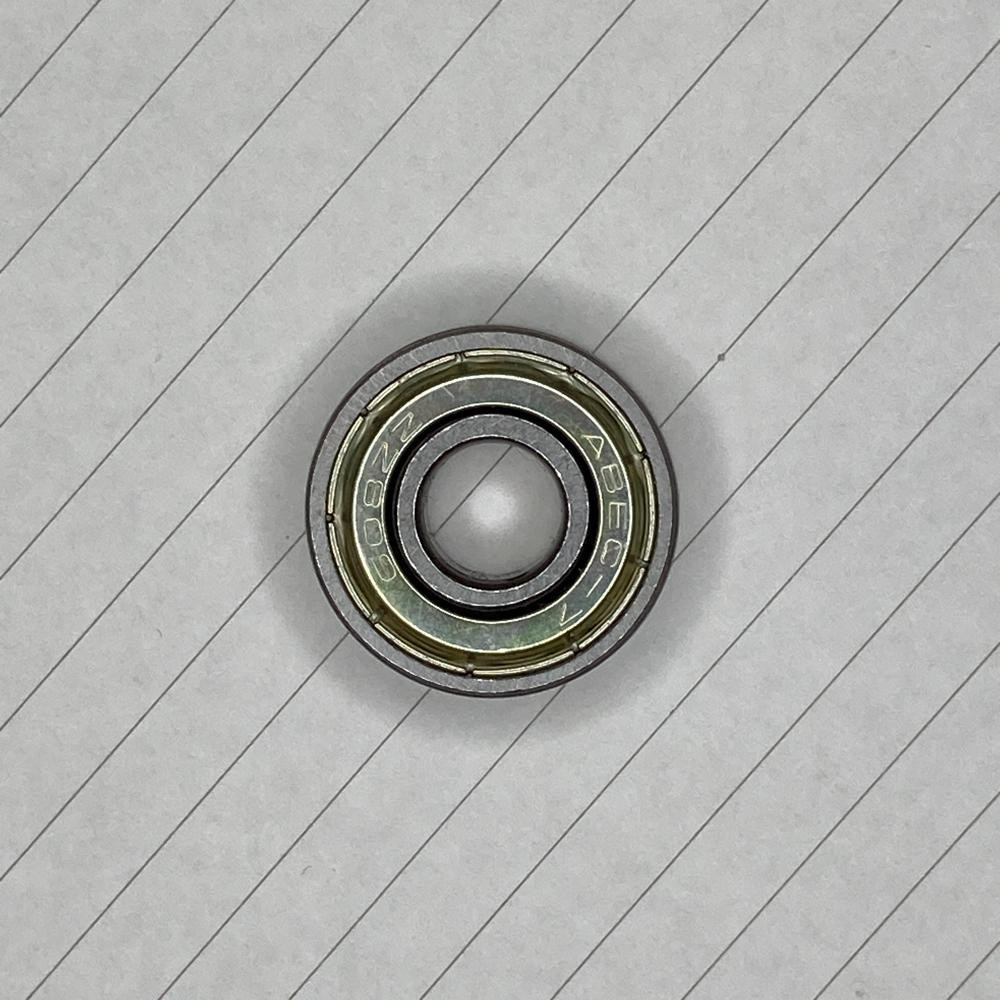ball_bearing: (300, 321, 682, 703)
